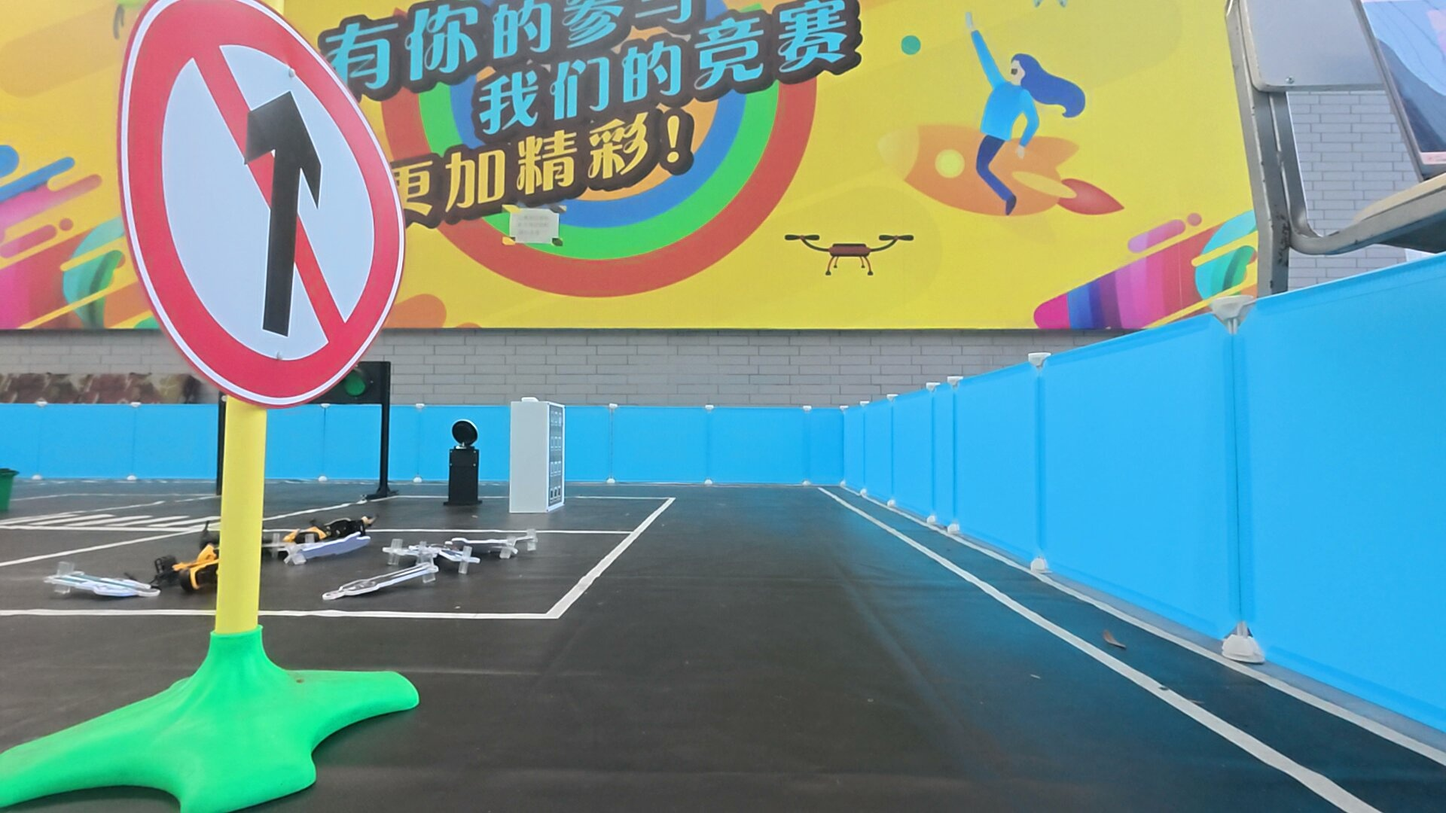obstacle: (112, 3, 417, 415)
